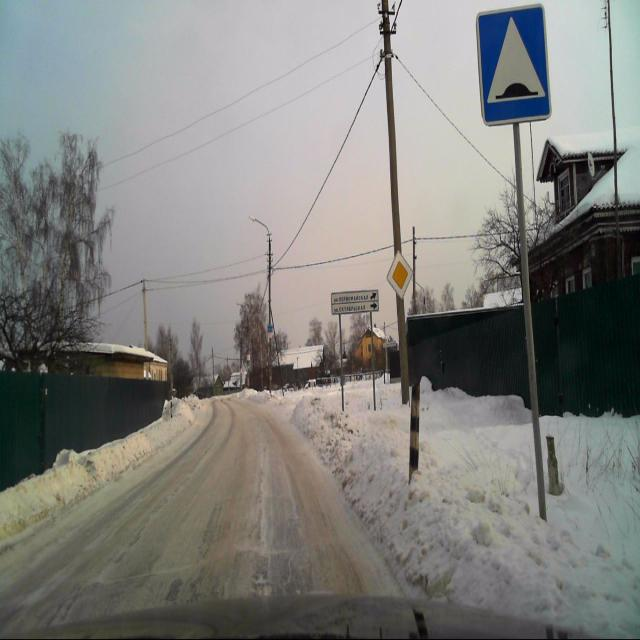object: (510, 121, 547, 521)
road sign: (476, 4, 550, 130), (386, 252, 412, 299)
